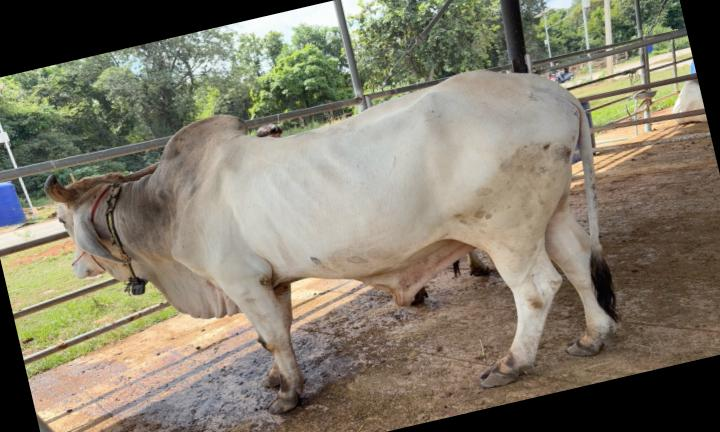Brahman: (46, 70, 618, 413)
